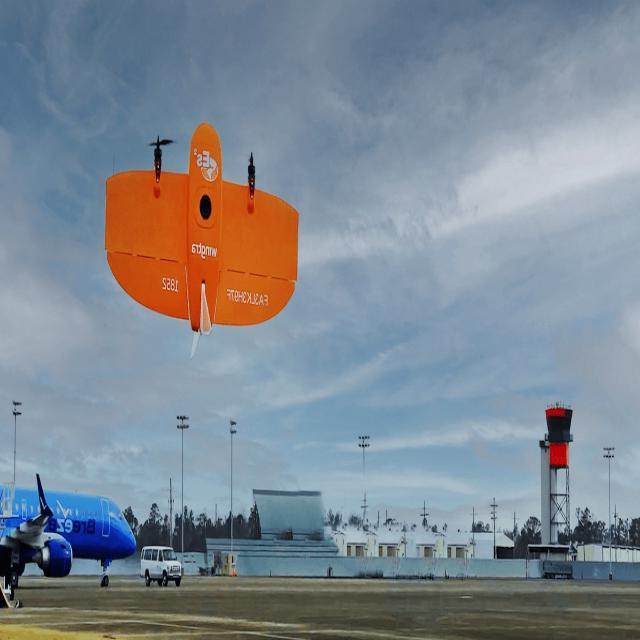iha: (91, 117, 299, 356)
